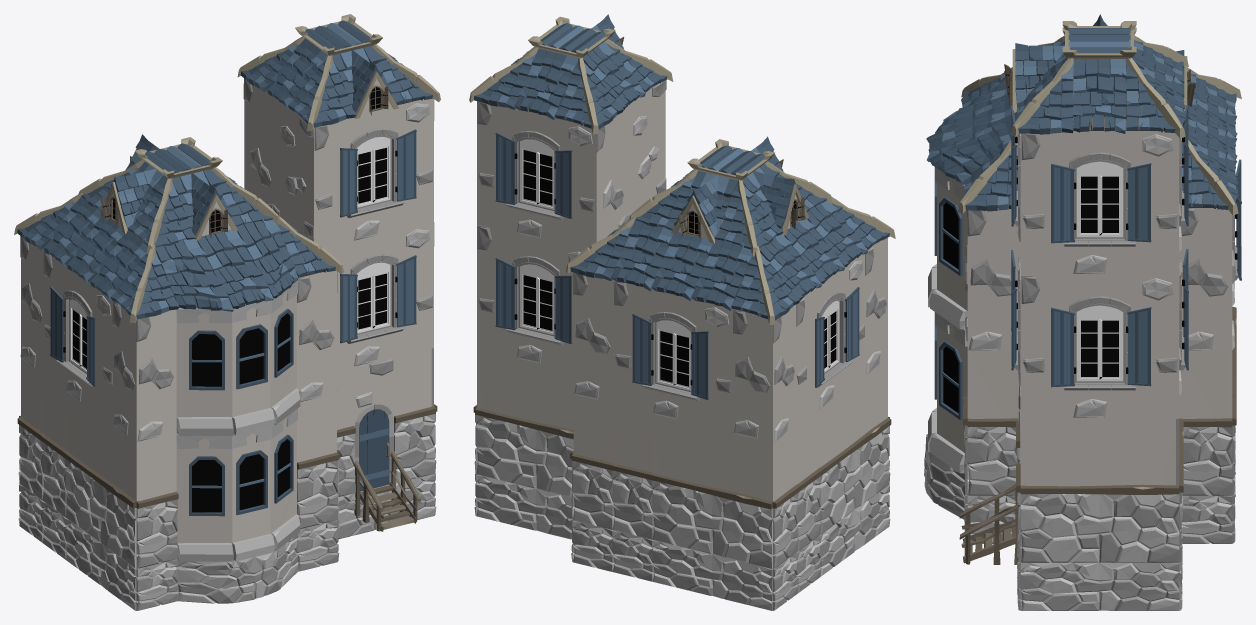
File: house_5.fbx
3 renders of one model, left to right at view 1: azimuth 30°, elevation 25°; view 2: azimuth 150°, elevation 25°; view 3: azimuth 270°, elevation 25°, orthographic. The views are drawn at different scales.
Parts seen in each view (by area): view 1: BALKON_02_3, BALKON_02_2, WINDOW_05_11, WINDOW_05_10, ROOF_base_round_2, WALL_01_6, WINDOW_05_17, WALL_05_2, WALL_04_31, WALL_03_4, FOUNDATION_02_3, WALL_03_2 (+33 smaller); view 2: WALL_01_7, WINDOW_05_16, WINDOW_05_15, WINDOW_05_14, WALL_01_8, WALL_01_6, WINDOW_05_17, WALL_05_2, FOUNDATION_01_5, WALL_04_42, WALL_03_8, WALL_03_7 (+32 smaller); view 3: WINDOW_05_13, WINDOW_05_12, WALL_01_9, FOUNDATION_01_3, WALL_04_26, WALL_04_22, WALL_03_3, WALL_03_9, ROOF_base_round_2, BALKON_02_3, BALKON_02_2, ROOF_base_14 (+27 smaller).
Part boxes in pixels (bbox=[...]): BALKON_02_3: bbox=[176, 280, 300, 435]; BALKON_02_2: bbox=[176, 408, 300, 561]; WINDOW_05_11: bbox=[314, 98, 433, 248]; WINDOW_05_10: bbox=[325, 222, 433, 371]; ROOF_base_round_2: bbox=[155, 218, 298, 311]; WALL_01_6: bbox=[63, 393, 138, 568]; WINDOW_05_17: bbox=[43, 252, 113, 425]; WALL_05_2: bbox=[243, 78, 313, 241]; WALL_04_31: bbox=[135, 433, 178, 568]; WALL_03_4: bbox=[136, 309, 176, 442]; FOUNDATION_02_3: bbox=[176, 534, 298, 603]; WALL_03_2: bbox=[297, 270, 336, 402]; WALL_01_7: bbox=[651, 415, 774, 568]; WINDOW_05_16: bbox=[613, 280, 732, 433]; WINDOW_05_15: bbox=[477, 101, 596, 249]; WINDOW_05_14: bbox=[477, 224, 583, 372]; WALL_01_8: bbox=[475, 350, 573, 497]; WALL_01_6: bbox=[819, 361, 891, 534]; WINDOW_05_17: bbox=[796, 254, 864, 426]; WALL_05_2: bbox=[594, 80, 666, 242]; FOUNDATION_01_5: bbox=[652, 540, 773, 610]; WALL_04_42: bbox=[611, 405, 653, 539]; WALL_03_8: bbox=[573, 272, 613, 404]; WALL_03_7: bbox=[733, 309, 774, 443]; WINDOW_05_13: bbox=[1020, 275, 1179, 418]; WINDOW_05_12: bbox=[1020, 131, 1179, 274]; WALL_01_9: bbox=[1020, 419, 1179, 562]; FOUNDATION_01_3: bbox=[1020, 562, 1179, 610]; WALL_04_26: bbox=[1179, 352, 1232, 495]; WALL_04_22: bbox=[967, 352, 1019, 495]; WALL_03_3: bbox=[967, 208, 1020, 351]; WALL_03_9: bbox=[1179, 208, 1232, 351]; ROOF_base_round_2: bbox=[926, 72, 1017, 184]; BALKON_02_3: bbox=[928, 167, 967, 329]; BALKON_02_2: bbox=[928, 312, 967, 473]; ROOF_base_14: bbox=[1073, 59, 1126, 133].
Size of the model in its own units: 837 by 1127 by 601.
